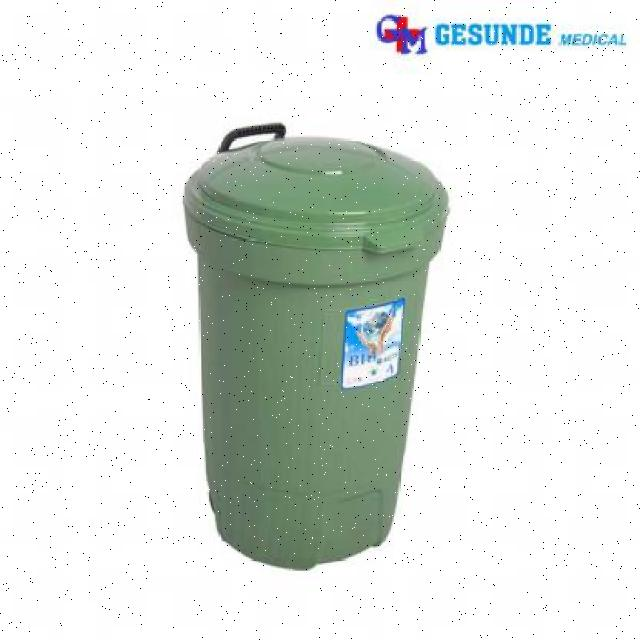garbage container: (162, 116, 463, 587)
